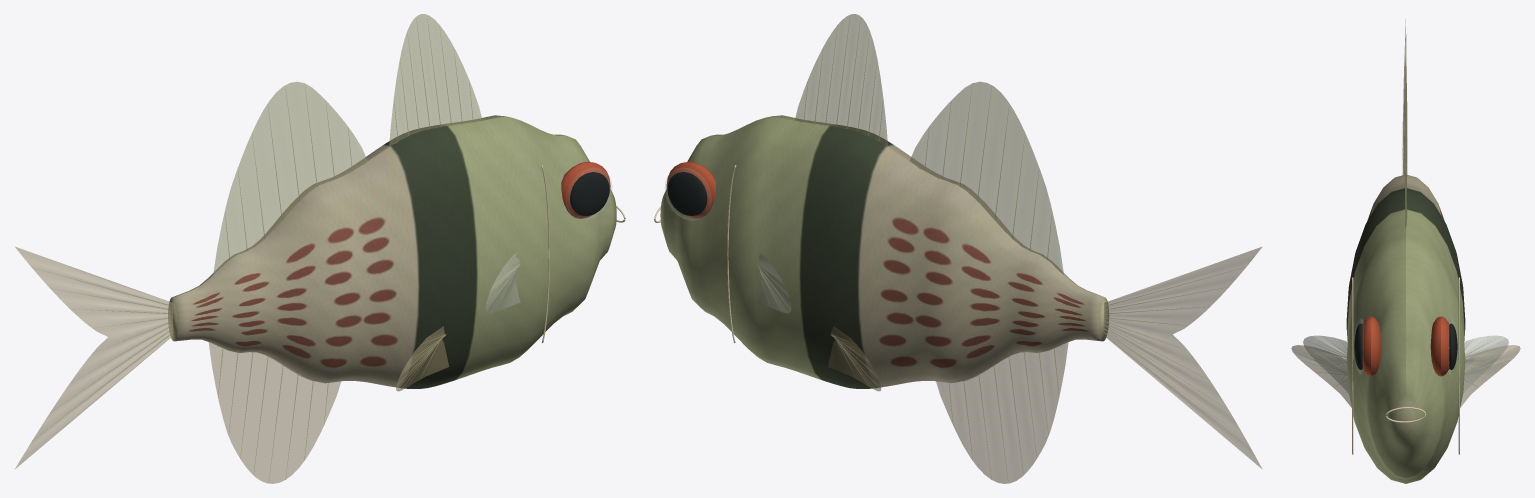
Rendered from pajama-mobile.glb.
3 views of the same model, side by side, from view 1: azimuth 30°, elevation 25°; view 2: azimuth 150°, elevation 25°; view 3: azimuth 270°, elevation 25° (orthographic).
Visible parts, largest first — view 1: skin, dorsal, anal, tail, dorsal-ray, pelvic-left, eye-pupil--1, pectoral-left, eye-iris--1; view 2: skin, dorsal, tail, anal, dorsal-ray, pelvic-left, eye-pupil--1, pectoral-left, eye-iris--1; view 3: skin, pectoral-left, pelvic-left, eye-iris--1, operculum, eye-pupil--1, dorsal-ray, dorsal, tail.
Part boxes in pixels (x1,y1,x2,y2): skin: [168, 115, 616, 388]; dorsal: [213, 14, 482, 274]; anal: [208, 342, 340, 483]; tail: [15, 247, 172, 468]; dorsal-ray: [34, 16, 520, 482]; pelvic-left: [396, 326, 448, 391]; eye-pupil--1: [570, 172, 609, 215]; pectoral-left: [485, 253, 520, 313]; eye-iris--1: [561, 162, 610, 218]; skin: [660, 115, 1108, 388]; dorsal: [795, 14, 1063, 274]; tail: [1104, 247, 1261, 468]; anal: [936, 342, 1068, 483]; dorsal-ray: [757, 15, 1235, 479]; pelvic-left: [828, 326, 881, 391]; eye-pupil--1: [667, 172, 707, 215]; pectoral-left: [756, 252, 791, 313]; eye-iris--1: [666, 162, 715, 218]; skin: [1346, 175, 1465, 483]; pectoral-left: [1303, 335, 1508, 393]; pelvic-left: [1291, 345, 1520, 407]; eye-iris--1: [1362, 316, 1449, 376]; operculum: [1352, 277, 1459, 454]; eye-pupil--1: [1354, 323, 1457, 369]; dorsal-ray: [1292, 47, 1519, 386]; dorsal: [1404, 57, 1407, 228]; tail: [1402, 19, 1406, 174].
Bounding box in the file's own units: 0.5912 × 0.4079 × 0.1969.
Materials: 11 (1 with a texture image).
